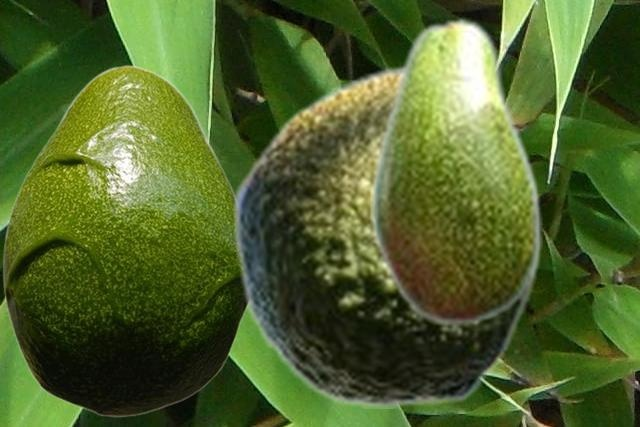avocado: (231, 64, 541, 407), (2, 64, 246, 416), (370, 15, 541, 328)
